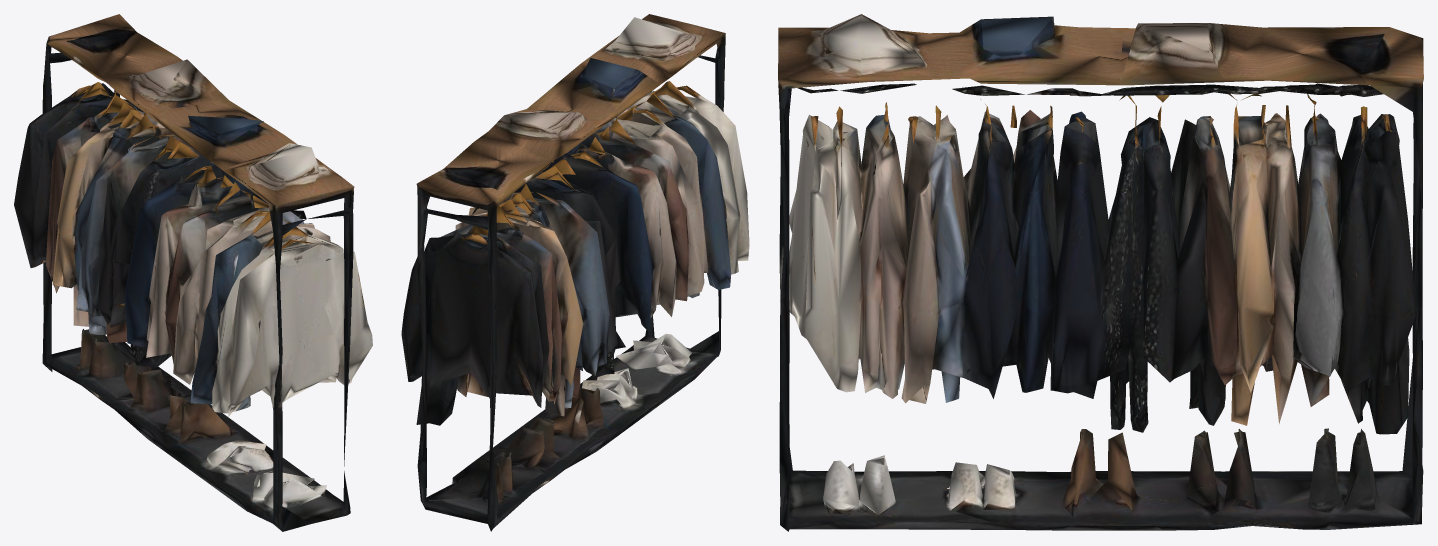
Rendered from clothrail_lod1.glb.
3 renders of one model, left to right at view 1: azimuth 30°, elevation 25°; view 2: azimuth 150°, elevation 25°; view 3: azimuth 270°, elevation 25°, orthographic. The views are drawn at different scales.
Visible parts, largest first — view 1: tripo_node_c77b2e2e-3d52-4b21-924a-4841dd4a9c13; view 2: tripo_node_c77b2e2e-3d52-4b21-924a-4841dd4a9c13; view 3: tripo_node_c77b2e2e-3d52-4b21-924a-4841dd4a9c13.
Boxes of the visible parts, x1,y1,x2,y2 form: tripo_node_c77b2e2e-3d52-4b21-924a-4841dd4a9c13: [14, 14, 372, 531]; tripo_node_c77b2e2e-3d52-4b21-924a-4841dd4a9c13: [401, 14, 749, 531]; tripo_node_c77b2e2e-3d52-4b21-924a-4841dd4a9c13: [778, 14, 1423, 531].
Size of the model in its own units: 0.7918 by 1.75 by 2.08.
Materials: 1 (1 with a texture image).
